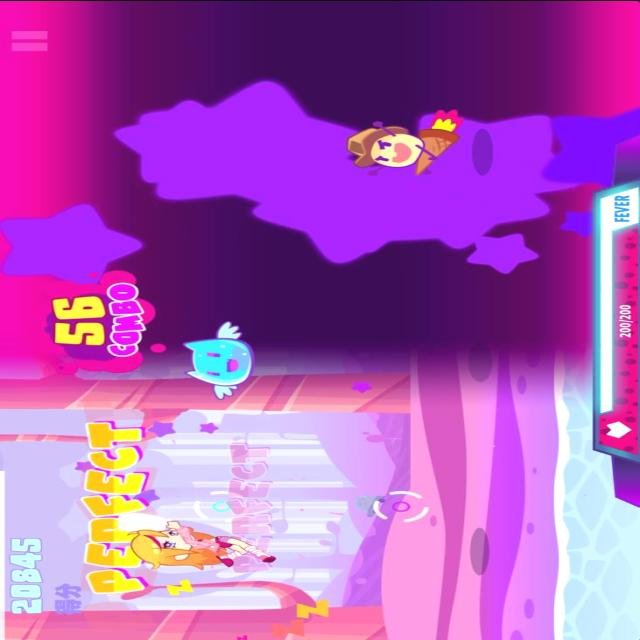mao: (182, 318, 258, 398)
qiu: (340, 105, 470, 179)
